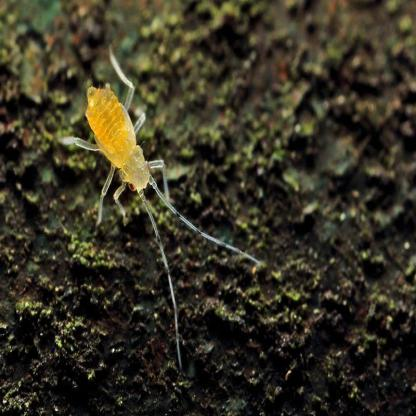aphid: (58, 68, 236, 306)
